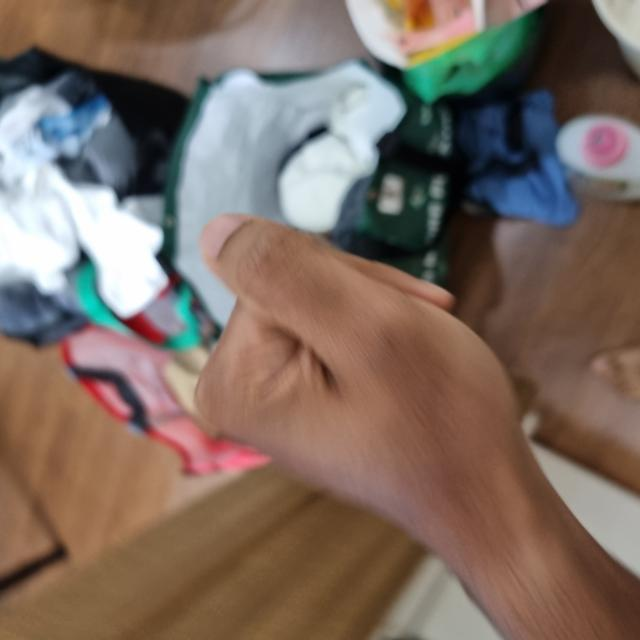Rock: (97, 3, 640, 518)
